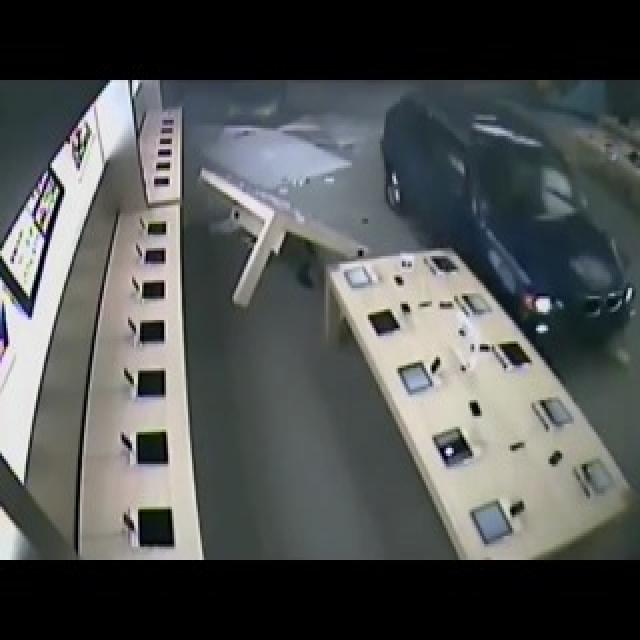burglary: (372, 79, 623, 349)
